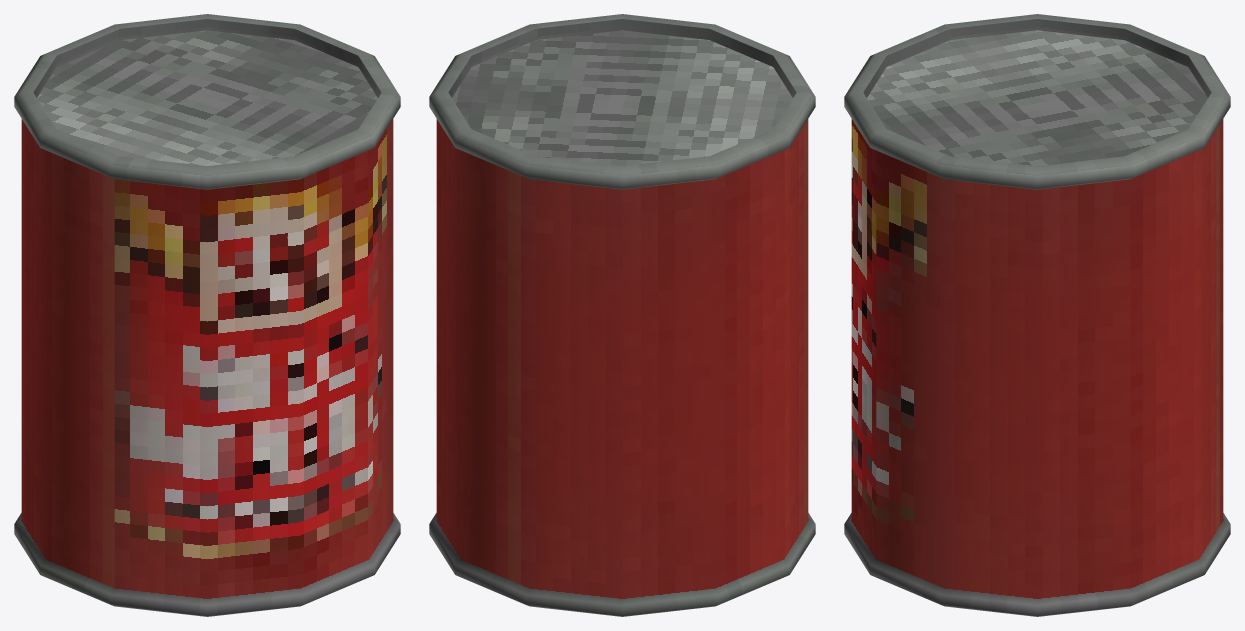
The model's file is can_meat.obj.
3 views of the same model, side by side, from view 1: azimuth 30°, elevation 25°; view 2: azimuth 150°, elevation 25°; view 3: azimuth 270°, elevation 25° (orthographic).
Parts seen in each view (by area): view 1: can_meat; view 2: can_meat; view 3: can_meat.
Part boxes in pixels (bbox=[...]): can_meat: bbox=[14, 14, 400, 616]; can_meat: bbox=[429, 14, 815, 616]; can_meat: bbox=[844, 14, 1230, 616].
Size of the model in its own units: 0.3151 by 0.4014 by 0.3151.
